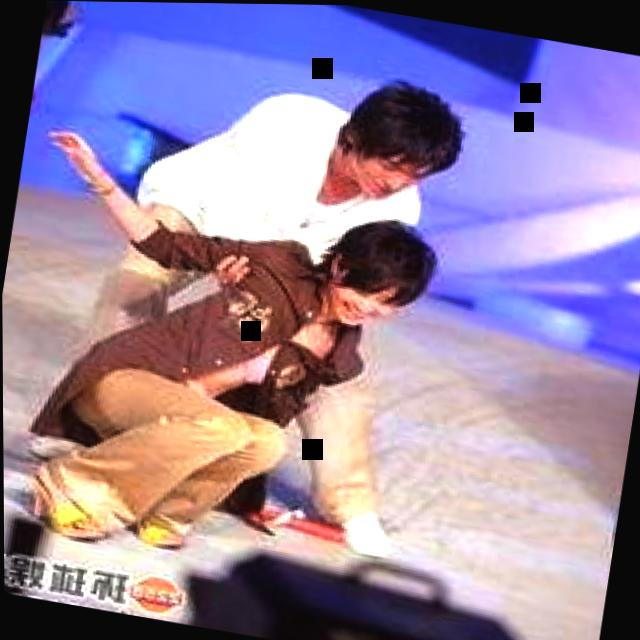Fall-Detected: (2, 86, 447, 601)
